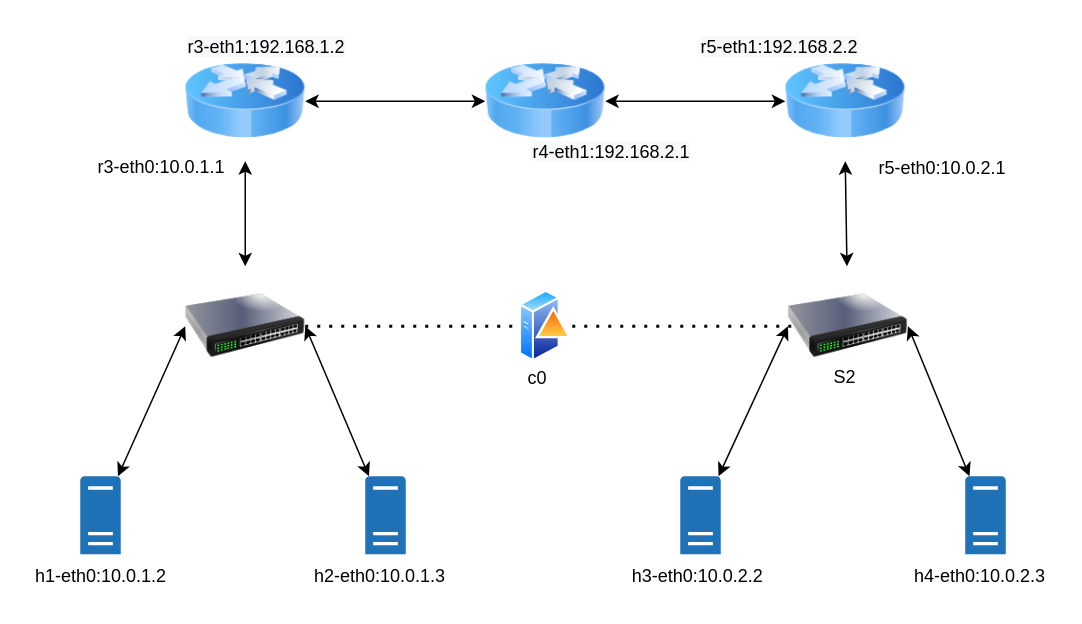
This 1082x624 diagram has some shape labels left out. The centre of each missing label's shape, as x and y in pixels:
"r4-eth0:192.168.1.1" belongs at [544,100].
"S1" belongs at [244,326].
